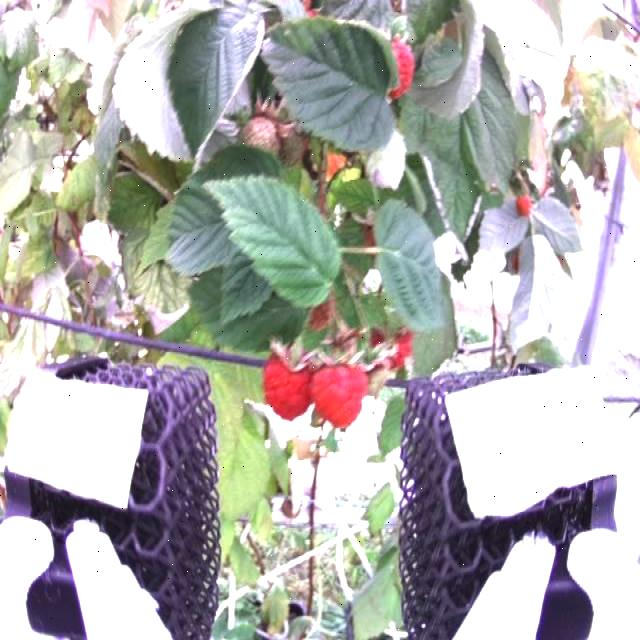Riped berries: (312, 344, 369, 430), (260, 346, 312, 420), (376, 32, 418, 98)
